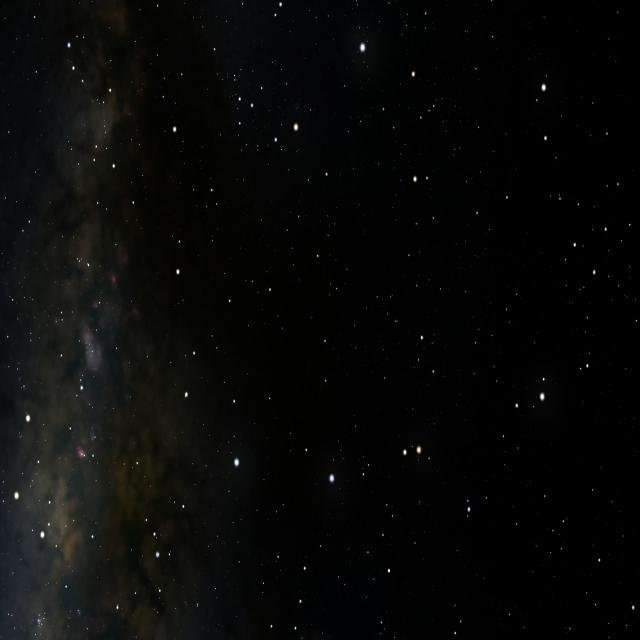Ophiuchus: (135, 16, 468, 572)
